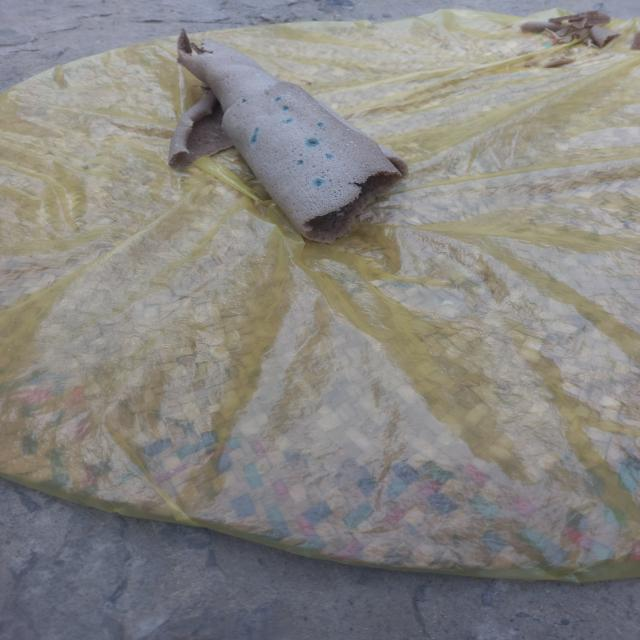injera_mold: (304, 136, 320, 148), (249, 127, 261, 143), (310, 178, 326, 186), (281, 116, 294, 125), (315, 119, 326, 129), (323, 152, 336, 160), (280, 104, 292, 112), (296, 158, 304, 168), (274, 96, 282, 102), (241, 98, 248, 104), (349, 141, 356, 146), (338, 212, 344, 216), (260, 74, 264, 79), (347, 128, 351, 131), (309, 103, 311, 107)
